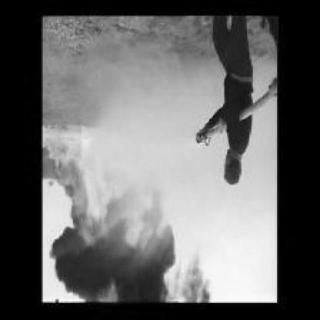Fire: (46, 125, 172, 258)
